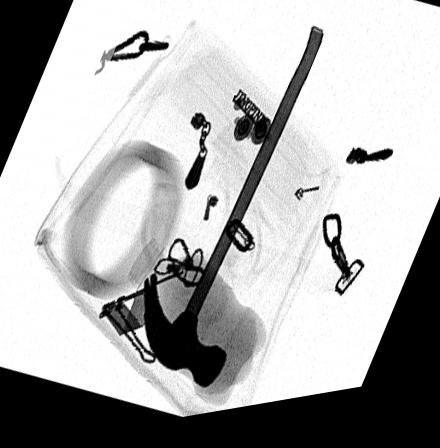Hammer: (143, 35, 325, 397)
